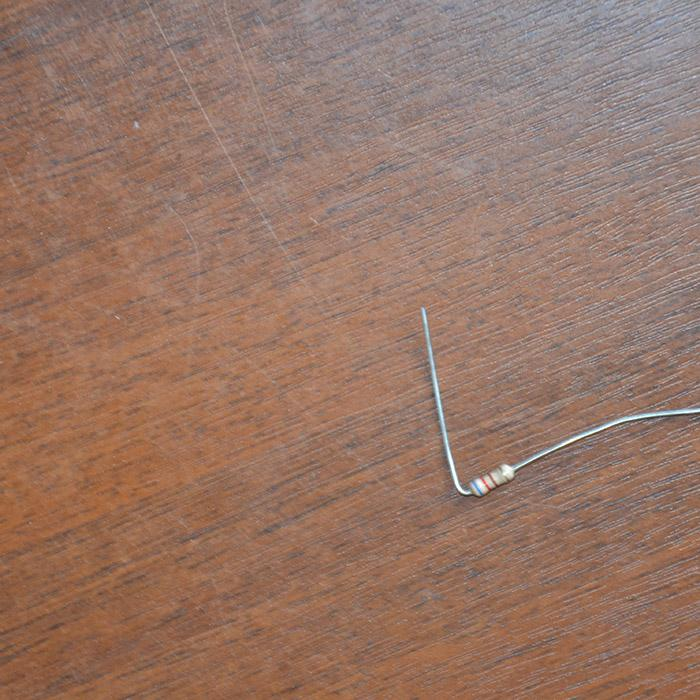resistor: (468, 462, 516, 496)
